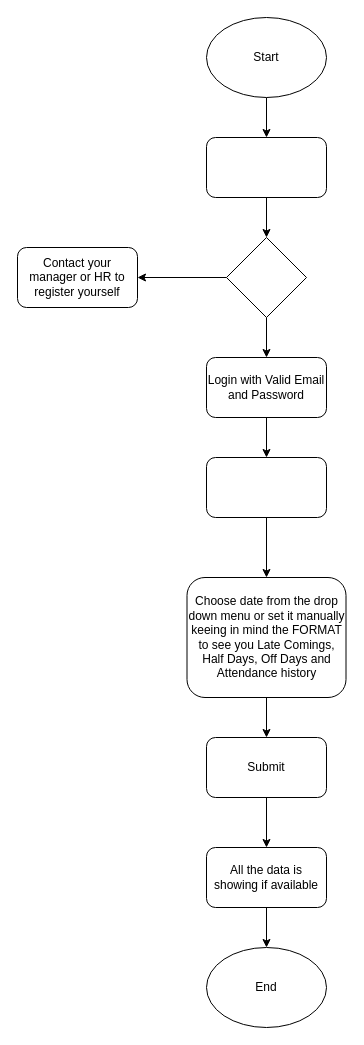
The diagram is 364 pixels wide and 1045 high, and some of its shapes have lost their labels. The shapes that lost their labels are listed below. From the top down, each one's centre as x and y in pixels, then its label:
the point at 266,167: Go to AMS Portal
the point at 266,277: Are you registered?
the point at 266,487: Click on My Attendance TAB
